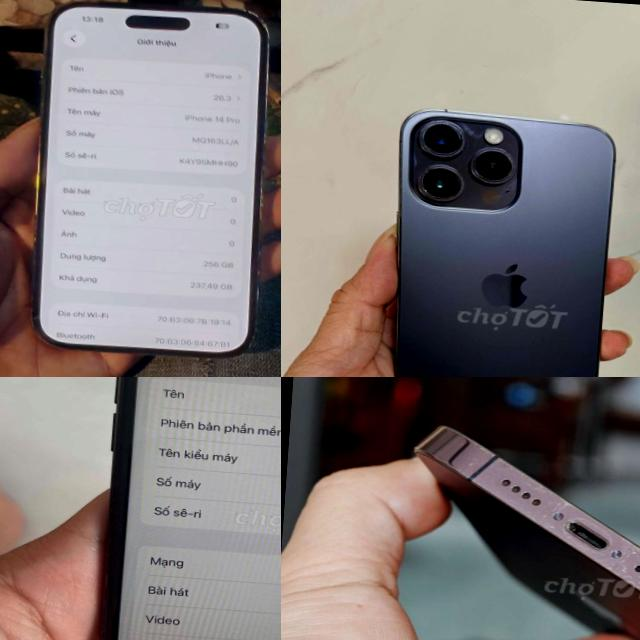scratch: (502, 470, 636, 577), (461, 446, 498, 474)
